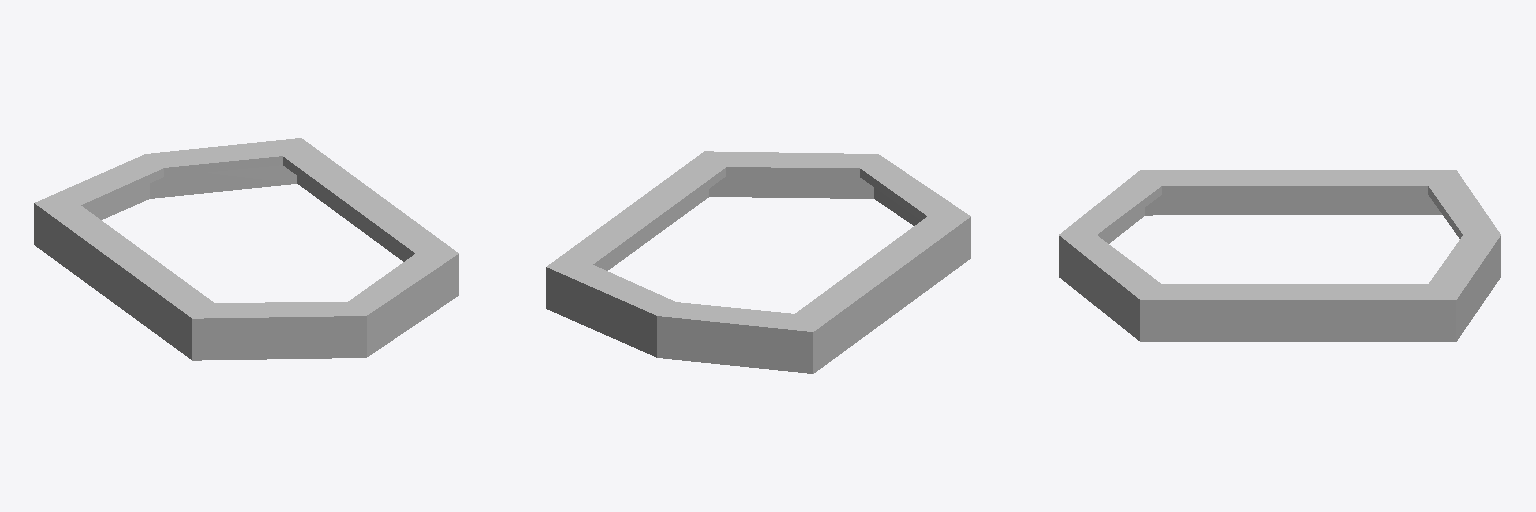
Rendered from Frame.obj.
3 renders of one model, left to right at view 1: azimuth 30°, elevation 25°; view 2: azimuth 150°, elevation 25°; view 3: azimuth 270°, elevation 25°, orthographic.
Visible parts, largest first — view 1: Frame; view 2: Frame; view 3: Frame.
Part boxes in pixels (x1,y1,x2,y2): Frame: (34,138,458,360); Frame: (546,151,970,373); Frame: (1059,170,1500,341).
Size of the model in its own units: 30 by 4.5 by 43.